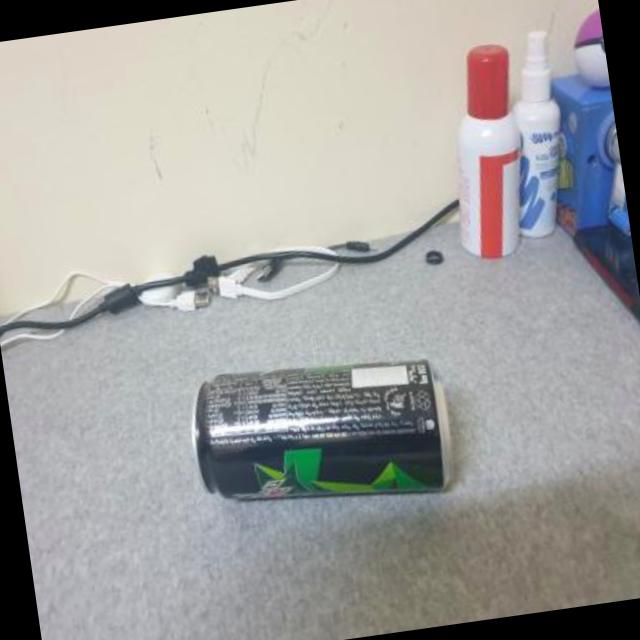metal: (195, 358, 451, 496)
